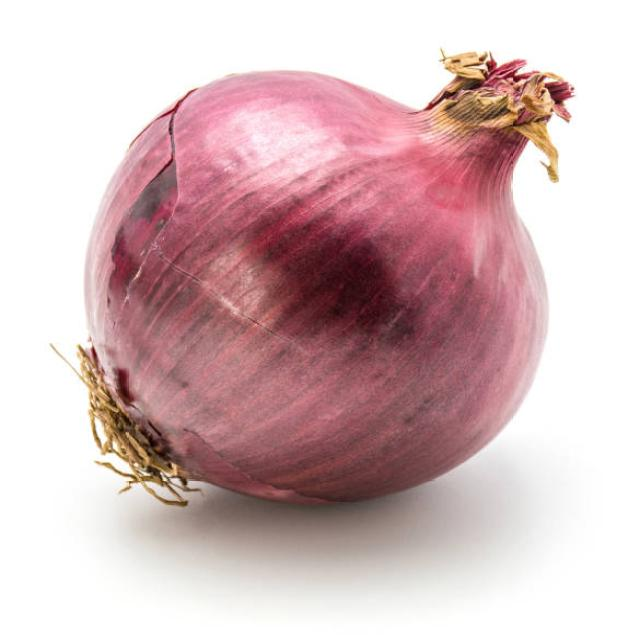onion: (72, 73, 569, 511)
